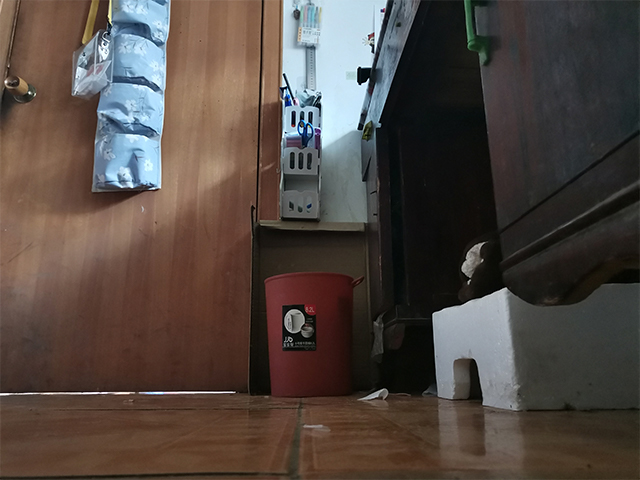cabinet: (358, 1, 640, 394)
trashcan: (262, 269, 366, 399)
